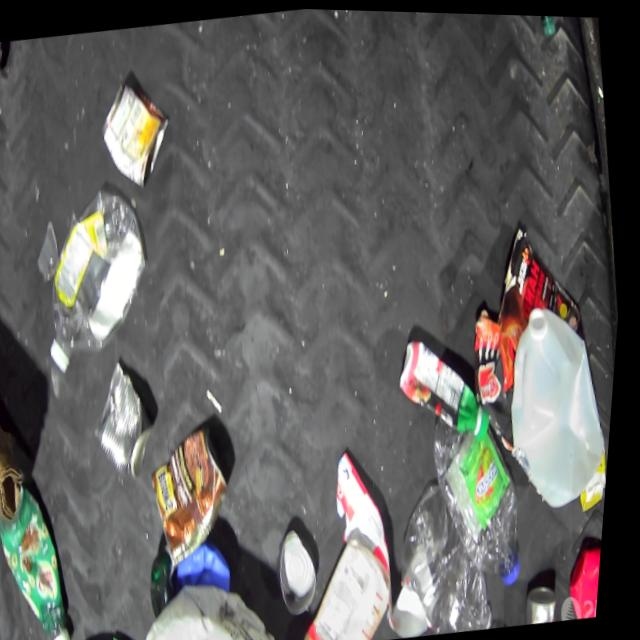can: (146, 420, 250, 570), (90, 71, 182, 192), (86, 356, 170, 483), (277, 522, 335, 618), (526, 578, 570, 623)
milk_jug: (494, 293, 624, 513), (295, 530, 407, 640), (143, 568, 299, 640)
plastic_bottle: (31, 180, 169, 376), (425, 402, 541, 593), (393, 470, 511, 638)
